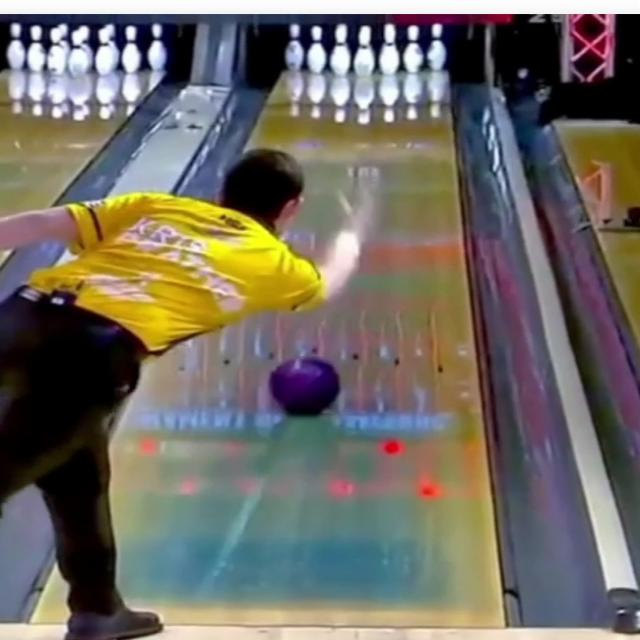alley: (112, 71, 501, 625)
balls: (270, 350, 339, 415)
bottle: (284, 23, 446, 76)
